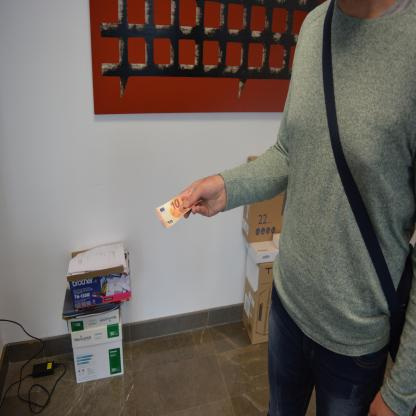billete: (155, 187, 203, 228)
